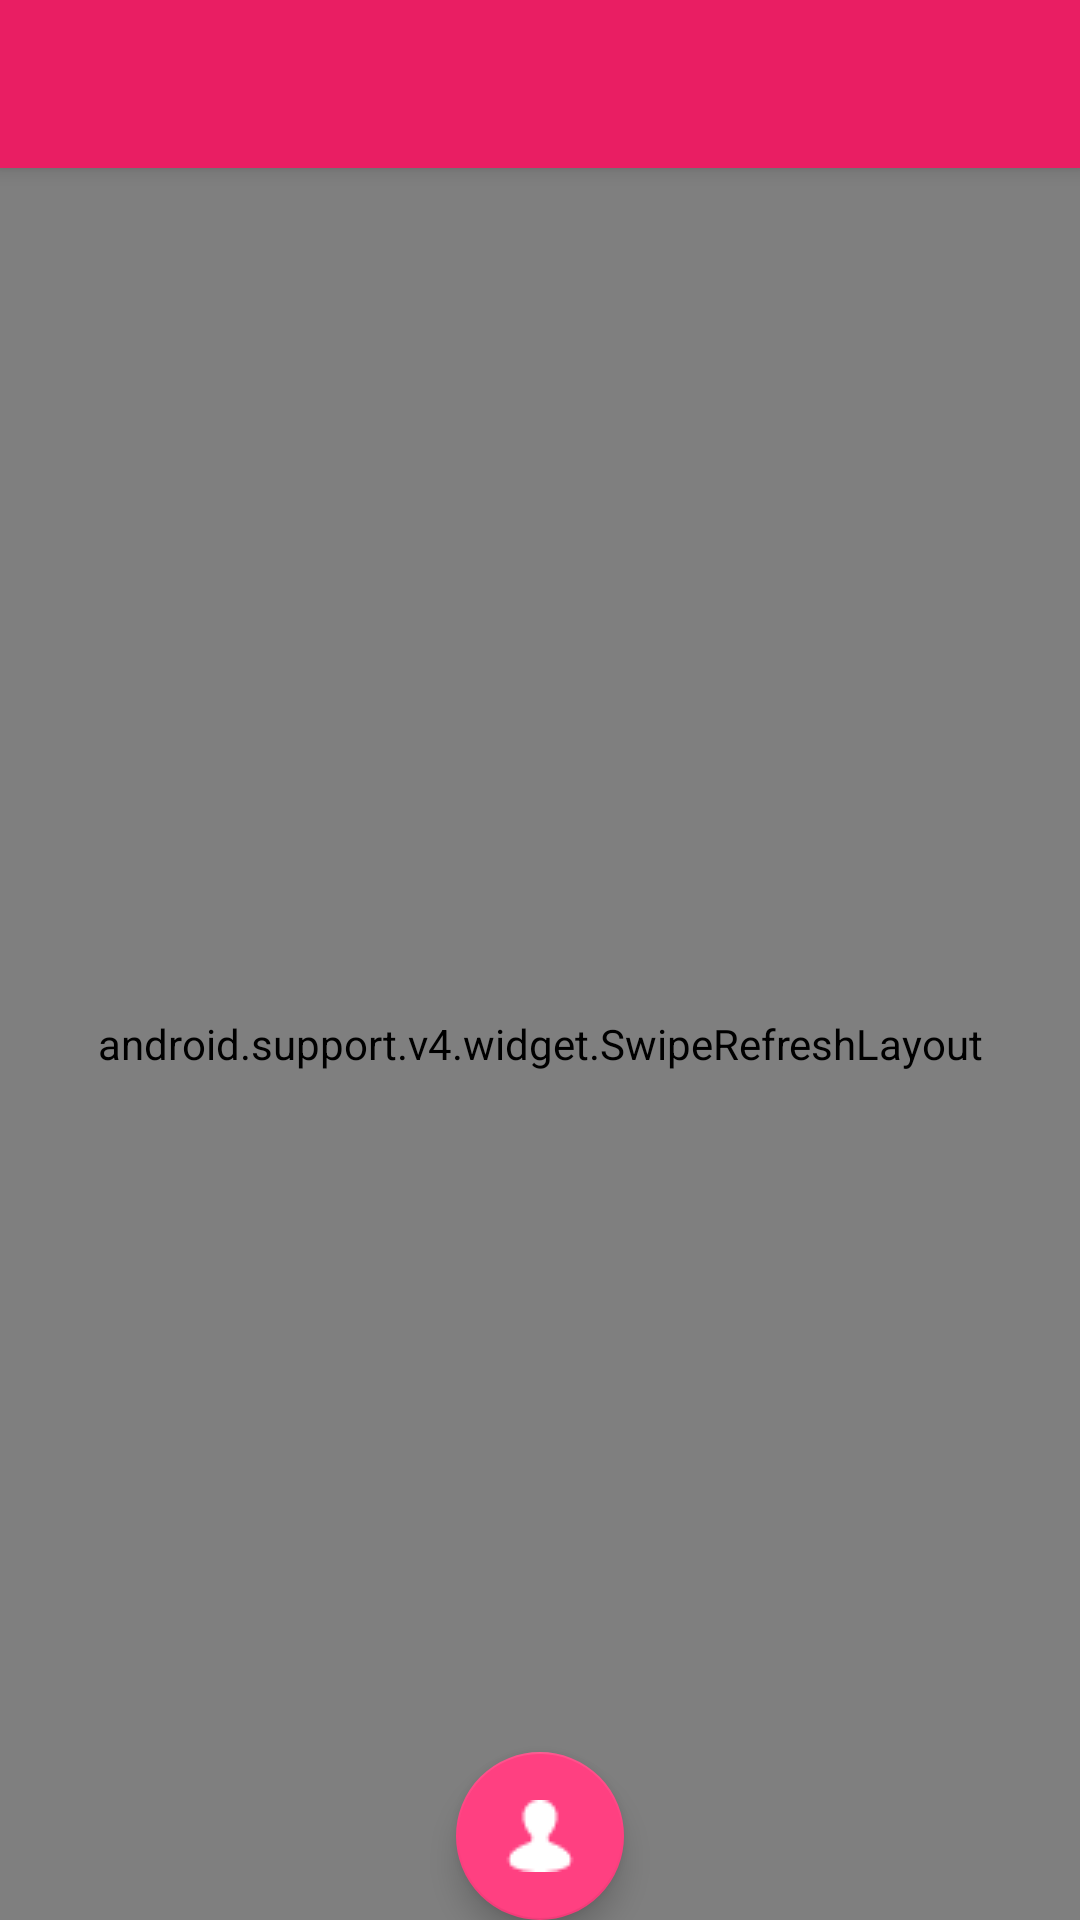

Icons on this 1080×1920 Android screen, each with its box as (x1, y1, x2, y2):
user: (456, 1752, 624, 1920)
